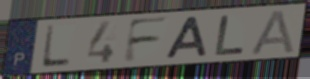4: (86, 19, 116, 66)
A: (248, 8, 297, 56), (163, 15, 210, 61)
F: (121, 15, 171, 65)
L: (39, 24, 73, 69), (213, 14, 248, 57)
